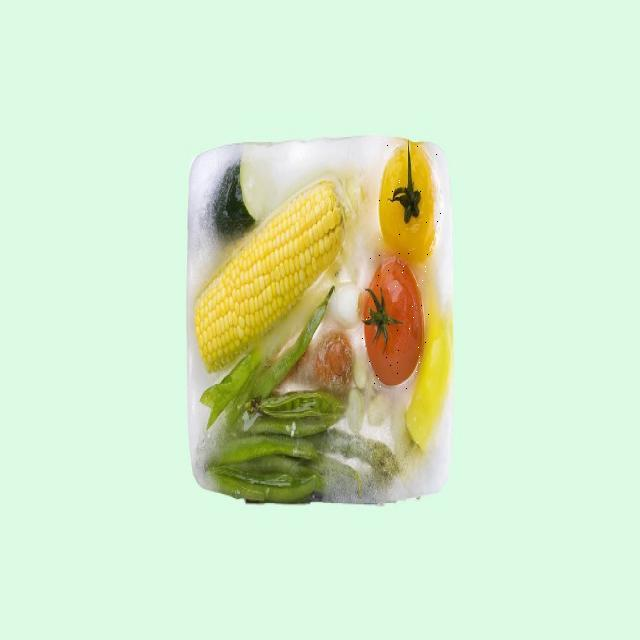Tomato: (360, 254, 430, 392), (378, 132, 446, 271)
